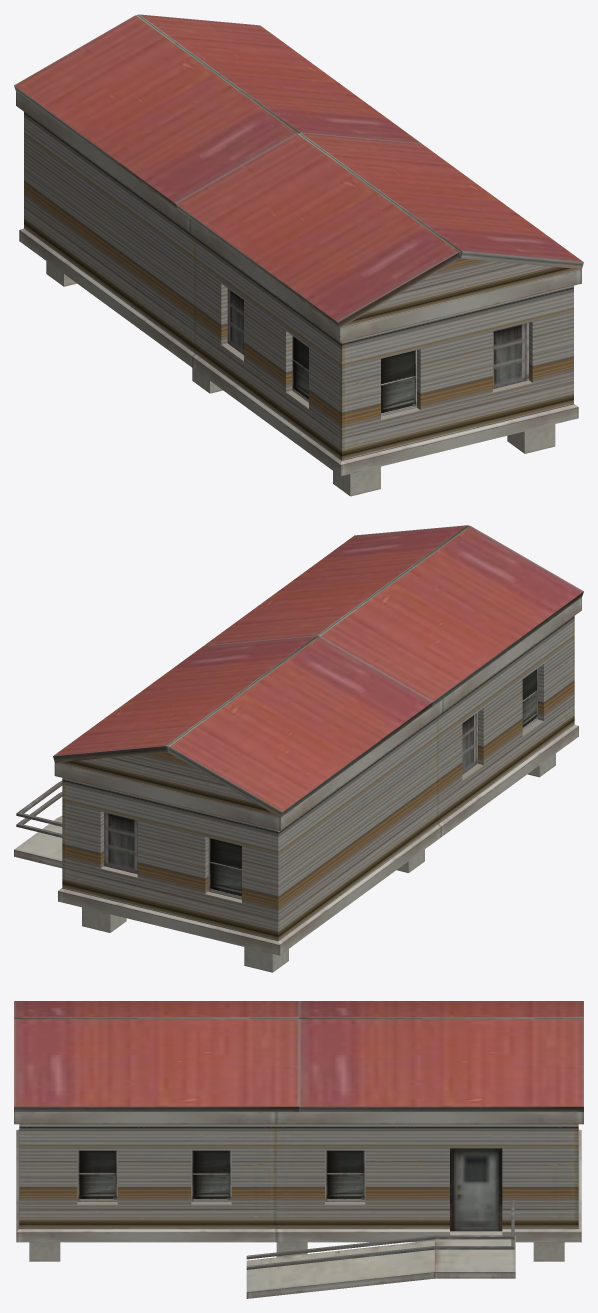
The model's file is rural-mobile-home.walls-v1.lod1.glb.
3 views of the same model, one above another, from view 1: azimuth 30°, elevation 25°; view 2: azimuth 150°, elevation 25°; view 3: azimuth 270°, elevation 25° (orthographic). The views are drawn at different scales.
Parts seen in each view (by area): view 1: Rural_UnmobileHome_1_Rural_Trailer_Stuff_1_0, Rural_UnmobileHome_1_Rural_Facade_FLR_2_0; view 2: Rural_UnmobileHome_1_Rural_Trailer_Stuff_1_0, Rural_UnmobileHome_1_Rural_Facade_FLR_2_0; view 3: Rural_UnmobileHome_1_Rural_Trailer_Stuff_1_0, Rural_UnmobileHome_1_Rural_Facade_FLR_2_0.
Part boxes in pixels (x1,y1,x2,y2): Rural_UnmobileHome_1_Rural_Trailer_Stuff_1_0: (14,14,583,460); Rural_UnmobileHome_1_Rural_Facade_FLR_2_0: (16,92,581,496); Rural_UnmobileHome_1_Rural_Trailer_Stuff_1_0: (53,525,583,940); Rural_UnmobileHome_1_Rural_Facade_FLR_2_0: (14,597,581,972); Rural_UnmobileHome_1_Rural_Trailer_Stuff_1_0: (14,1001,583,1228); Rural_UnmobileHome_1_Rural_Facade_FLR_2_0: (14,1111,583,1298).
Size of the model in its own units: 6.63 by 4.39 by 11.38.
2 materials, 2 textured.
